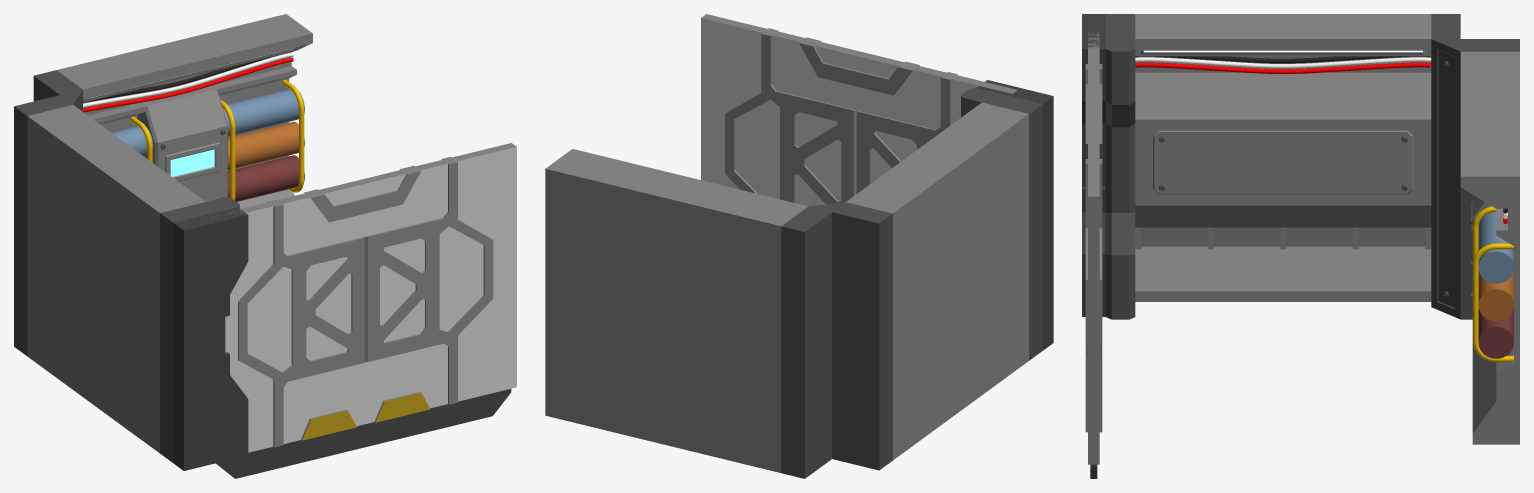
The model's file is modular_environment_parts.glb.
3 views of the same model, side by side, from view 1: azimuth 30°, elevation 25°; view 2: azimuth 150°, elevation 25°; view 3: azimuth 270°, elevation 25° (orthographic). The views are drawn at different scales.
Parts seen in each view (by area): view 1: Door, Wall, DoorTrack, WallBack, Control, CornerStrut, Strut, WallPipeU, WallPipeM, WallPipeL, Cable, Cable (1) (+3 smaller); view 2: WallBack, Wall, Door, CornerStrut, Strut, DoorTrack; view 3: Wall, WallBack, CornerStrut, Strut, Door, Vent, DoorTrack, WallPipeU, Cable (1) (1) (1), Cable (2), WallPipeM, WallPipeL (+2 smaller).
Part boxes in pixels (<box>): Door: <box>211,143,516,478</box>; Wall: <box>27,105,205,453</box>; DoorTrack: <box>173,207,248,470</box>; WallBack: <box>57,14,312,208</box>; Control: <box>137,89,227,201</box>; CornerStrut: <box>14,70,82,355</box>; Strut: <box>160,197,239,462</box>; WallPipeU: <box>111,89,304,156</box>; WallPipeM: <box>228,121,304,170</box>; WallPipeL: <box>228,155,304,201</box>; Cable: <box>83,52,293,107</box>; Cable (1): <box>83,57,293,112</box>; WallBack: <box>545,149,807,472</box>; Wall: <box>846,102,1028,460</box>; Door: <box>701,14,1017,206</box>; CornerStrut: <box>781,202,892,478</box>; Strut: <box>961,88,1042,360</box>; DoorTrack: <box>977,80,1053,350</box>; Wall: <box>1135,14,1431,301</box>; WallBack: <box>1460,51,1519,444</box>; CornerStrut: <box>1431,14,1519,319</box>; Strut: <box>1105,14,1135,319</box>; Door: <box>1085,32,1102,478</box>; Vent: <box>1141,227,1425,246</box>; DoorTrack: <box>1082,14,1105,316</box>; WallPipeU: <box>1478,212,1513,283</box>; Cable (1) (1) (1): <box>1135,62,1431,73</box>; Cable (2): <box>1135,57,1431,68</box>; WallPipeM: <box>1478,270,1513,321</box>; WallPipeL: <box>1478,307,1513,358</box>.
Bounding box in the file's own units: 3.65 × 2.75 × 3.7.
